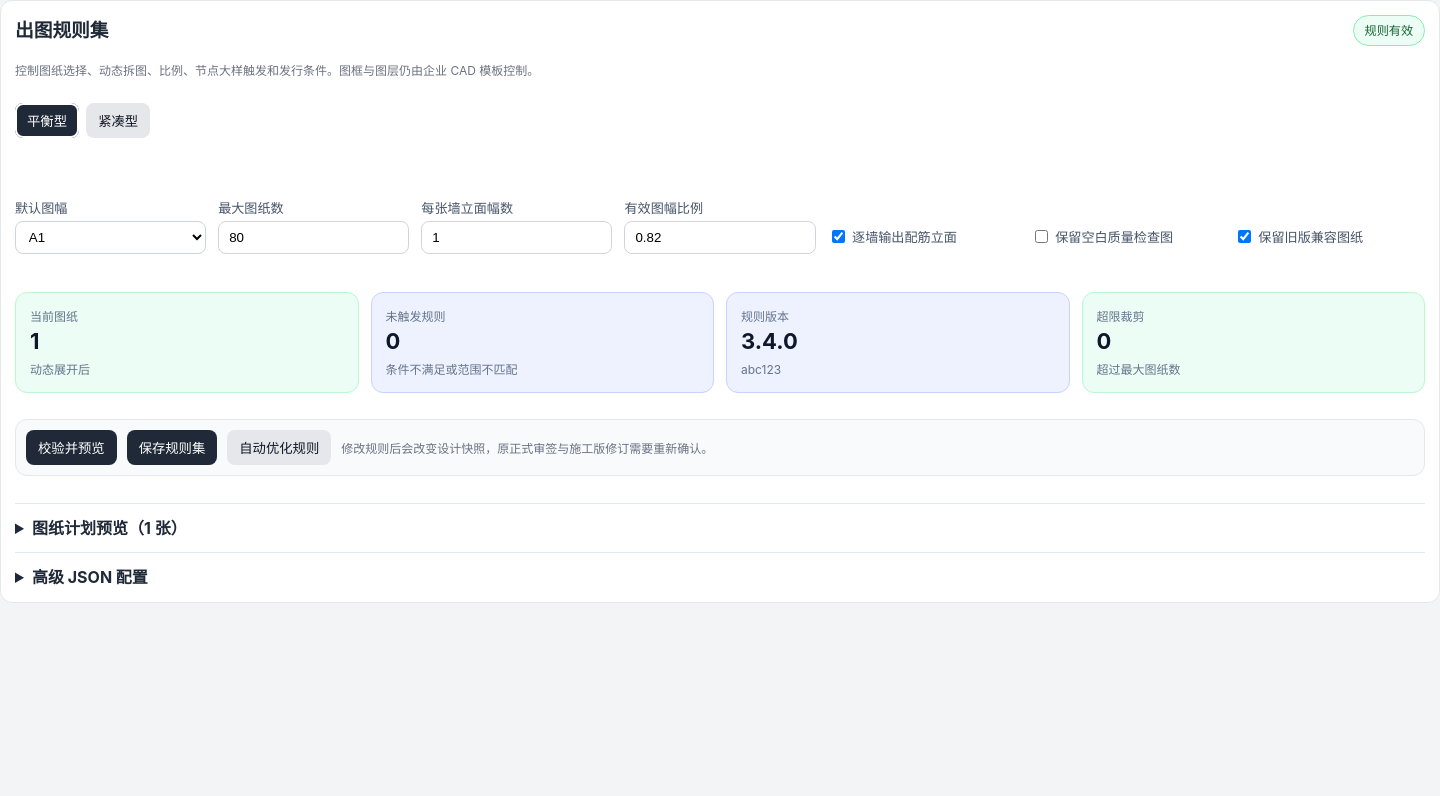
Test: DrawingRuleSetPanel › shows configurable drawing rules and optimization candidates
The image size is (1440, 796).
Expected: the text "规则有效" is shown, [1353,15,1425,46]
Expected: the heading "出图规则集" is shown, [15,19,108,42]
Click the button "自动优化规则".
click(279, 447)  # box [227,430,331,464]
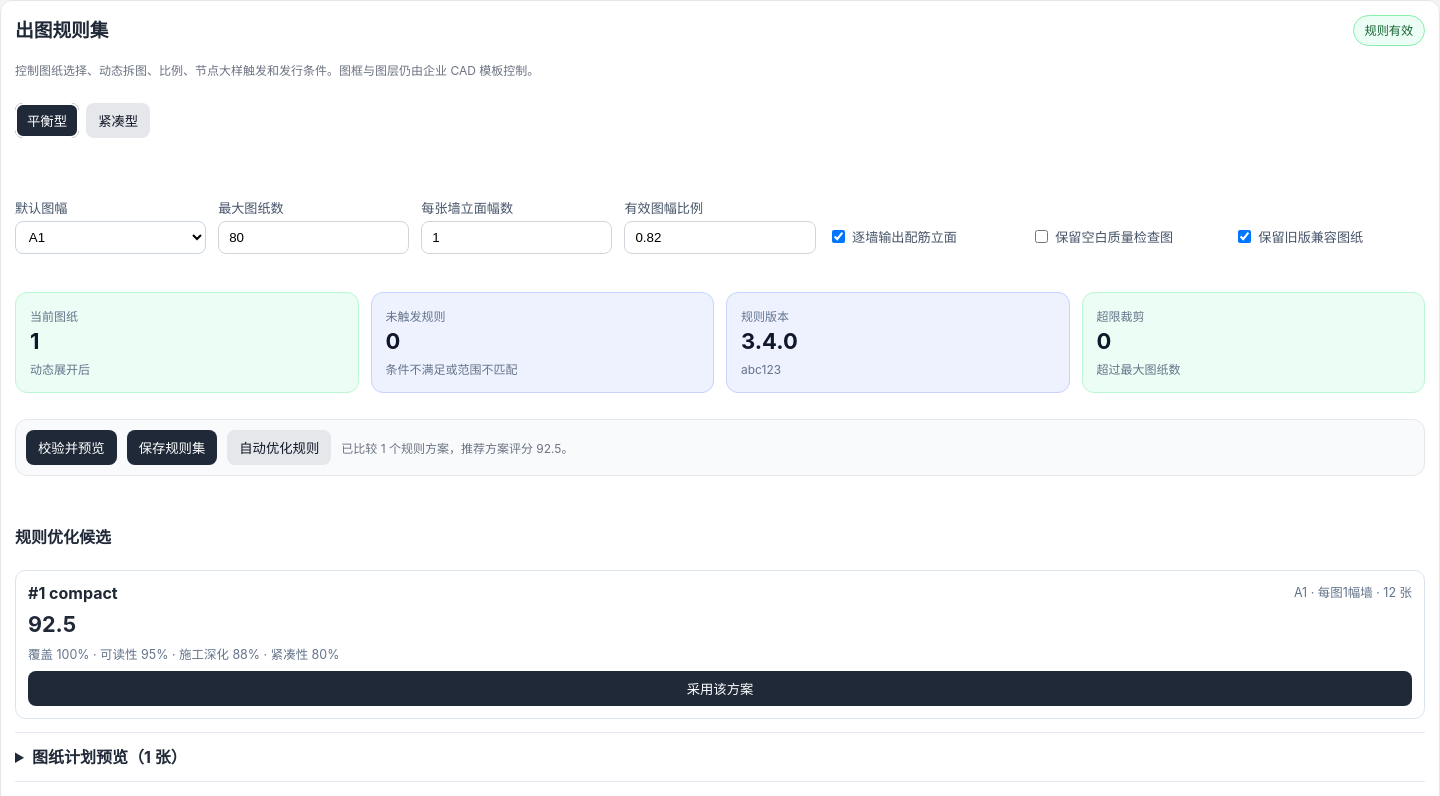
Expected: the heading "规则优化候选" is shown, [15,527,111,547]
Expected: the text "92.5" is shown, [28,611,76,637]
Expected: the text "A1 · 每图1幅墙 · 12 张" is shown, [1294,583,1412,603]
